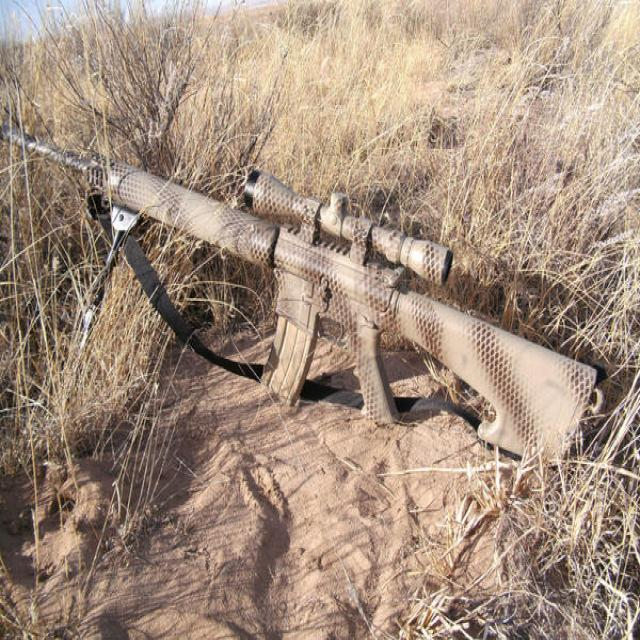Rifle: (0, 128, 599, 463)
